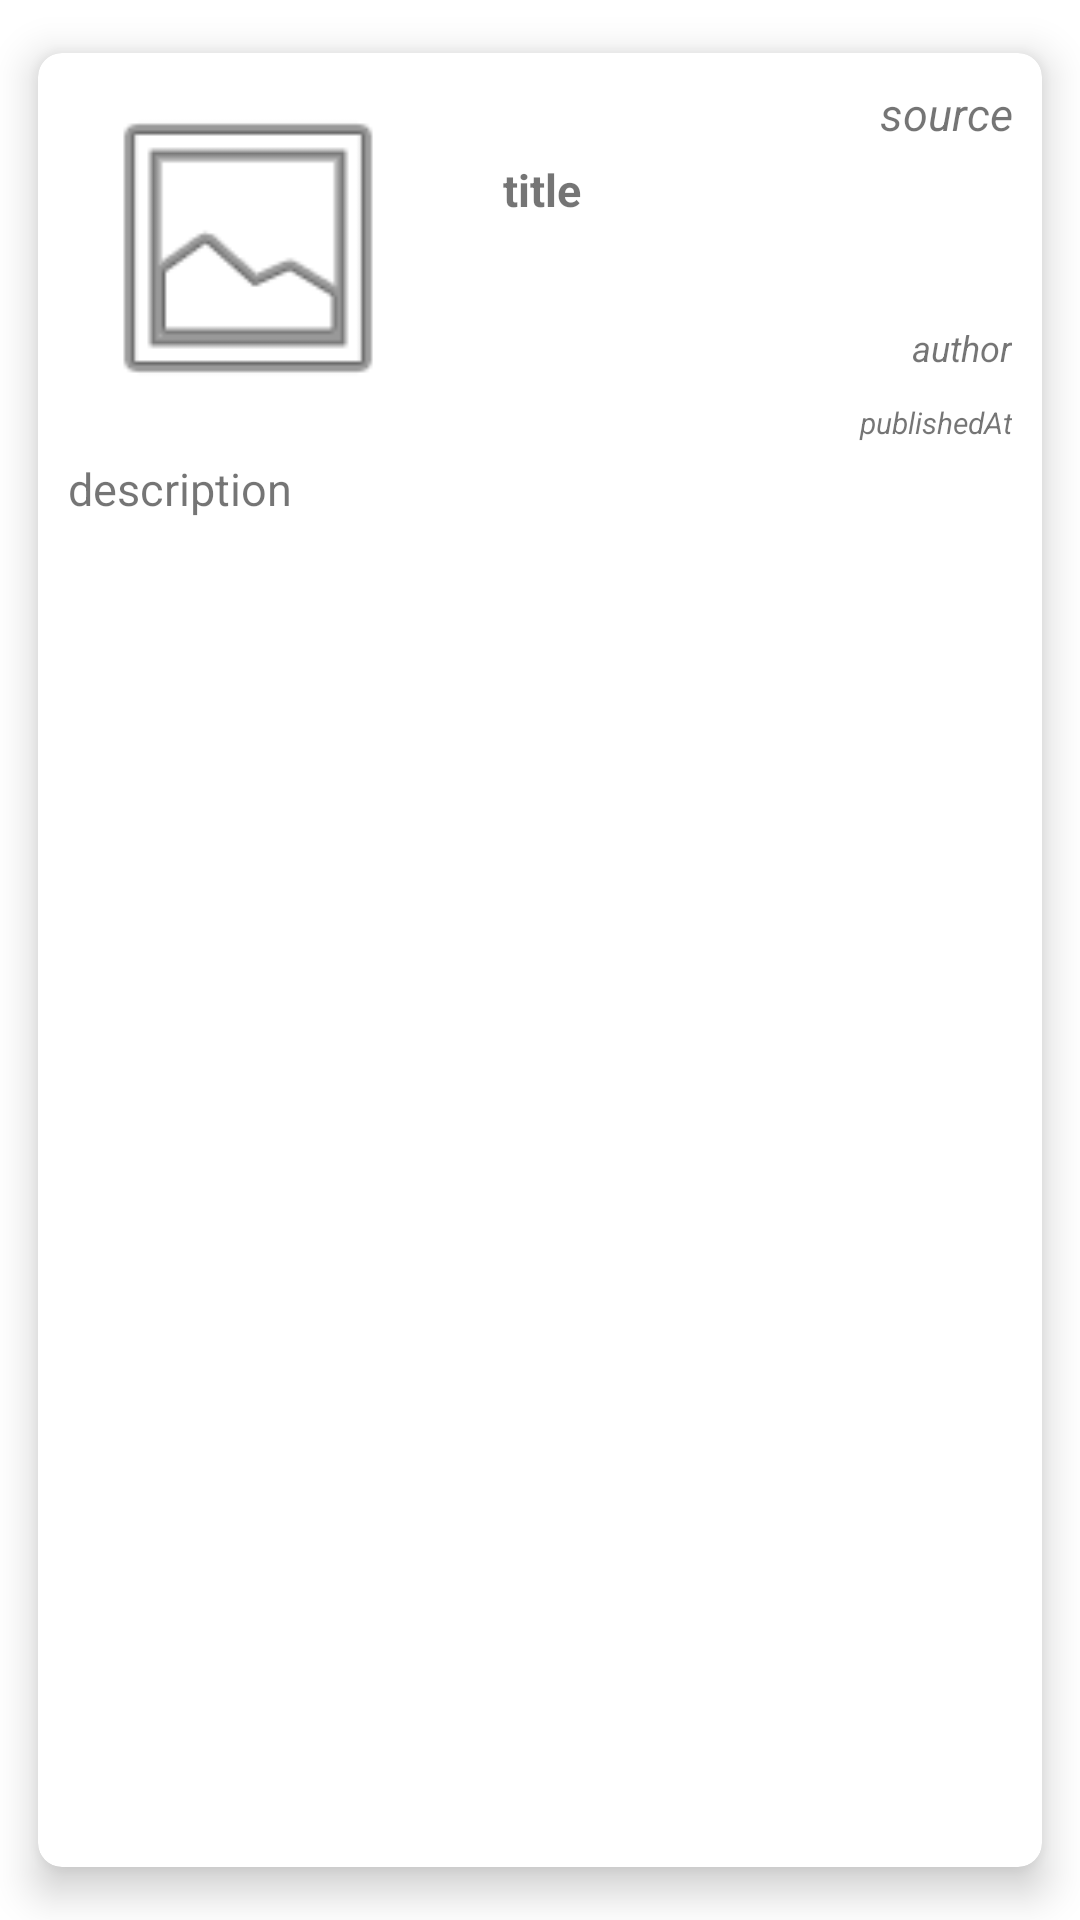

Icons on this 1080 x 1920 Android screen, each with its box as [x1,y1,x2,y2]:
gallery: [123,123,373,373]
